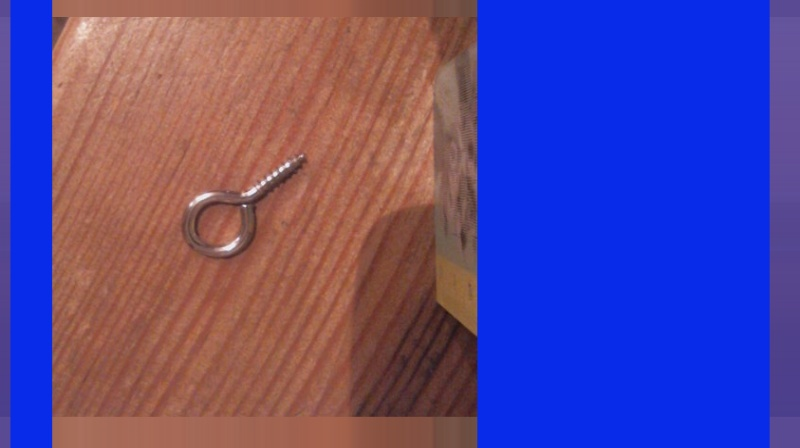O001: (180, 152, 309, 260)
